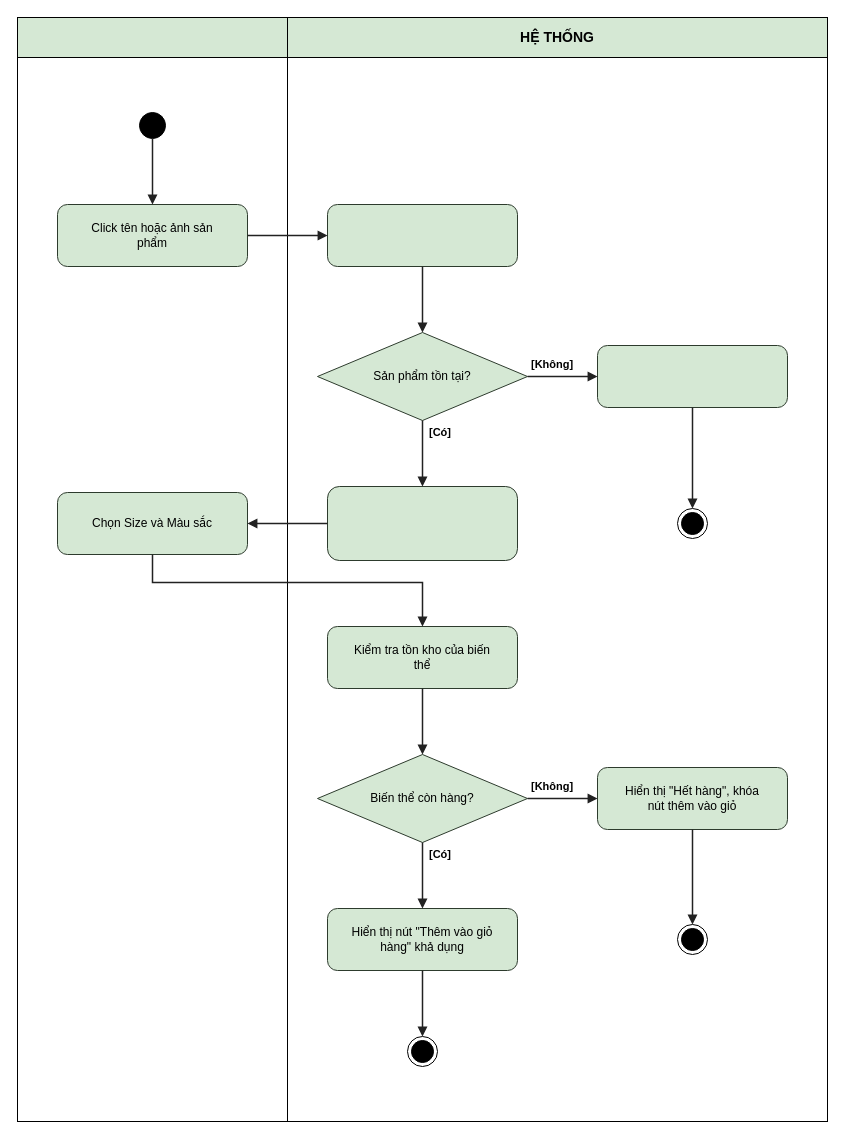
Image size: 845x1139. Some labels were removed from this diagram. Each missing label, with the centre of its shape:
Hiển thị hình, giá, mô tả, Size, Màu, đánh giá, sản phẩm tương tự: point 422,523
Hiển thị lỗi 404, gợi ý quay về trang chủ: point 692,376
NGƯỜI DÙNG: point 152,37
Truy vấn thông tin chi tiết sản phẩm: point 422,235
